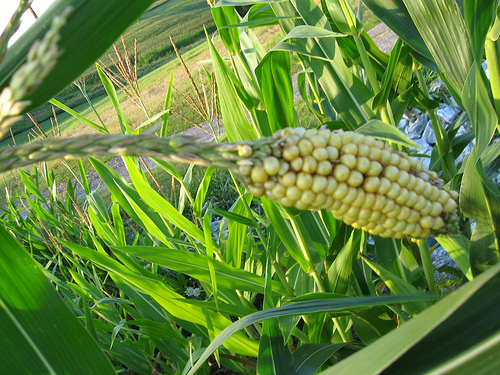corn: (237, 127, 458, 245)
